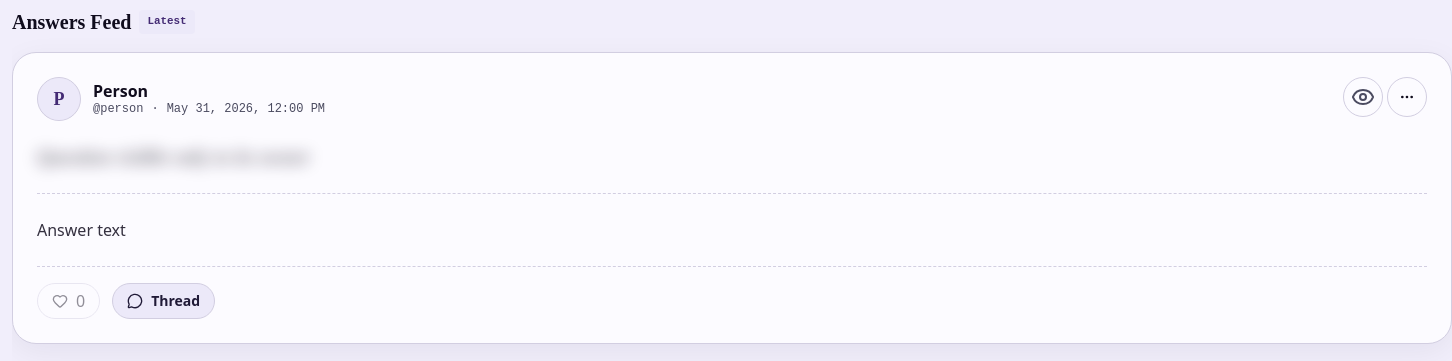
Test: public profile components › lets the owner reveal hidden wording locally while keeping it blurred by default
Click the button named "Show hidden question": click(1363, 97) [1343, 77, 1383, 117]
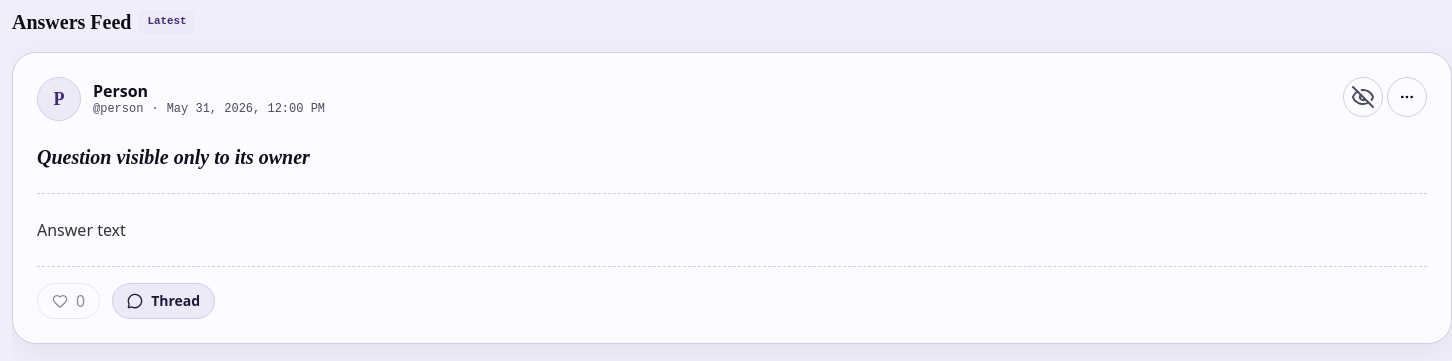
Expected: the button named "Hide question again" is shown, [1343, 77, 1383, 117]
